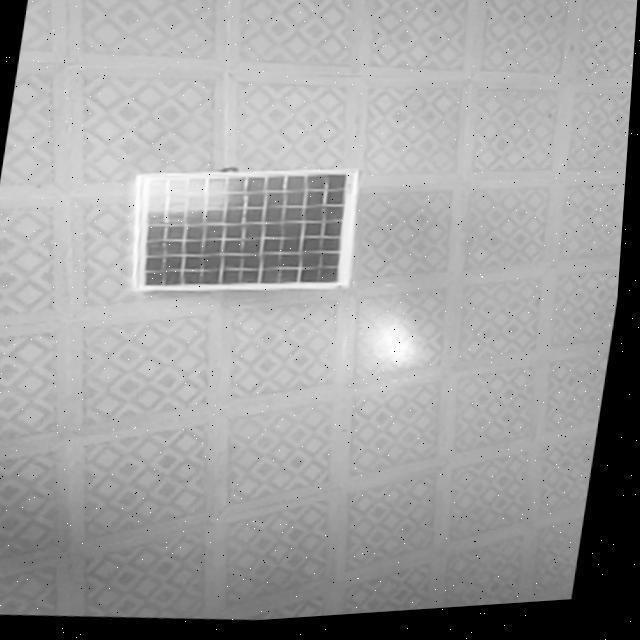Normal Solar Panel: (120, 154, 370, 312)
